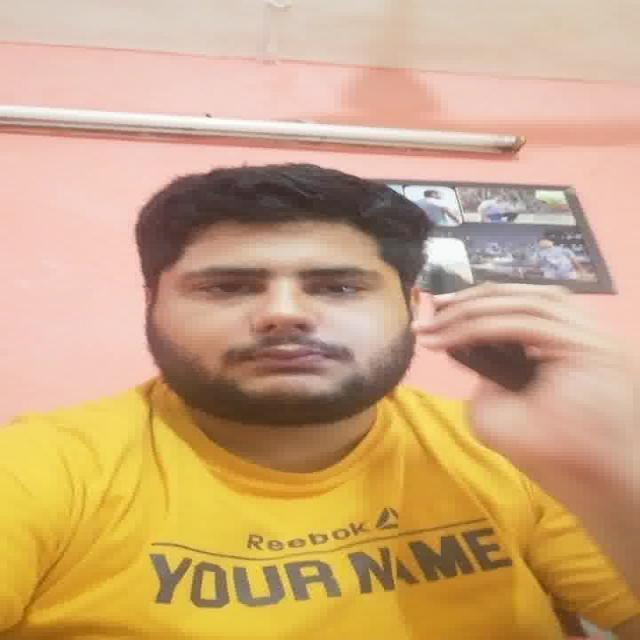Phone: (428, 266, 538, 398)
